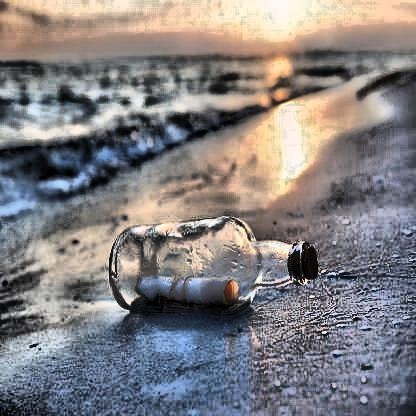Glass wastes: (105, 213, 321, 322)
